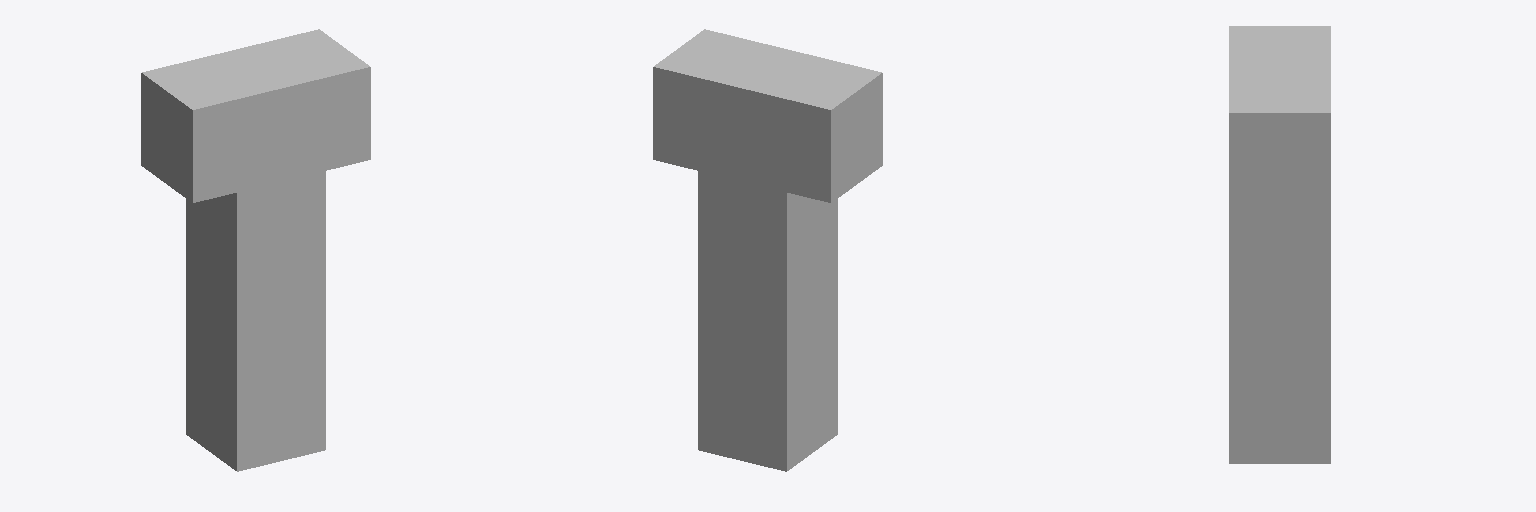
Rendered from lever 2.obj.
The picture shows the model from 3 angles: view 1: azimuth 30°, elevation 25°; view 2: azimuth 150°, elevation 25°; view 3: azimuth 270°, elevation 25°; orthographic projection.
Bounding box in the file's own units: 4 × 8 × 2.